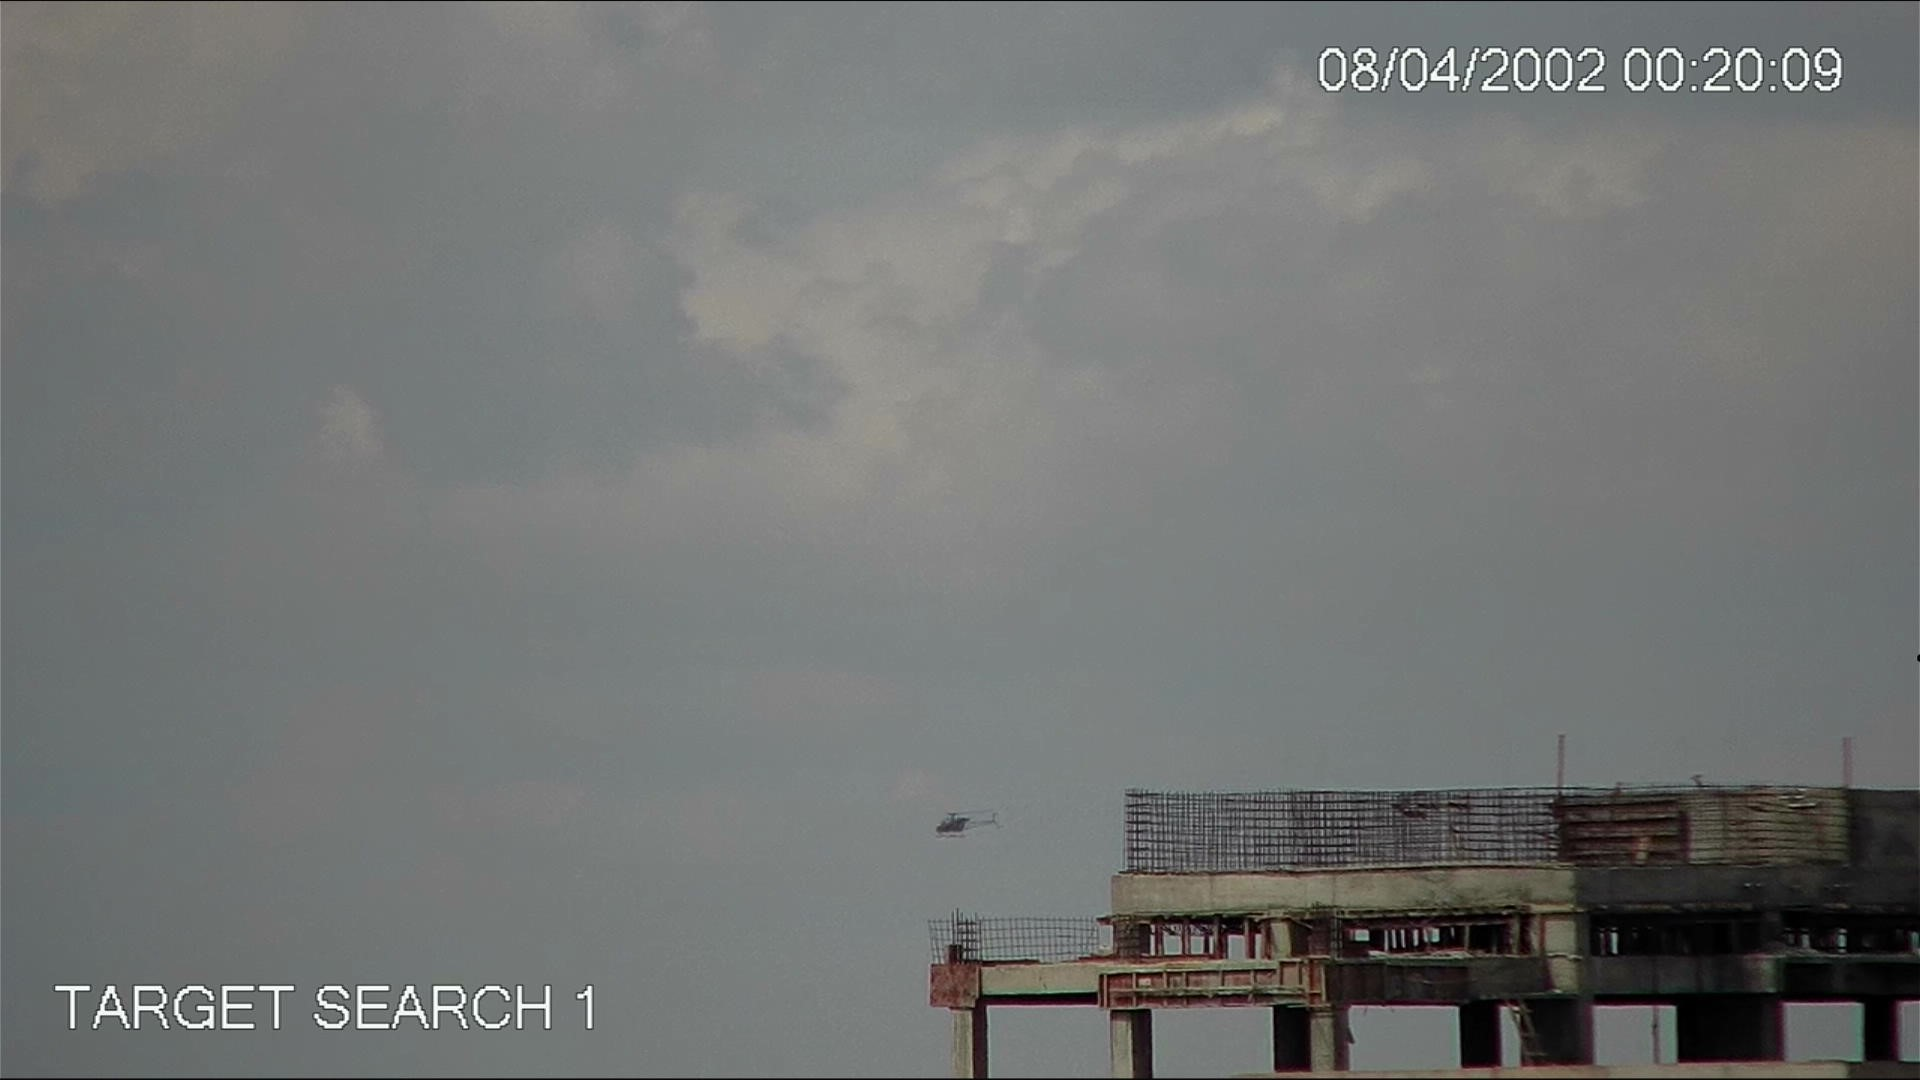SU_30: (926, 807, 1007, 845)
